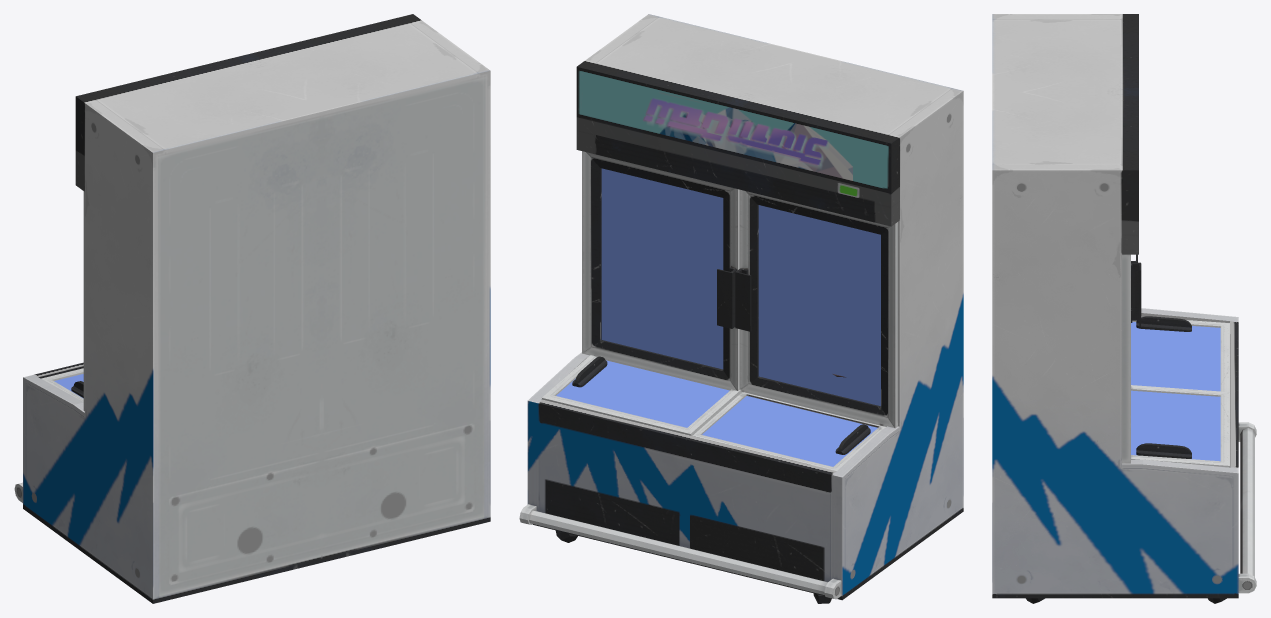
File: P_Freezer_002_S1_M01.obj
3 renders of one model, left to right at view 1: azimuth 30°, elevation 25°; view 2: azimuth 150°, elevation 25°; view 3: azimuth 270°, elevation 25°, orthographic. The views are drawn at different scales.
Bounding box in the file's own units: 2.1 × 2.79 × 1.5.
Materials: 133 (133 with a texture image).
